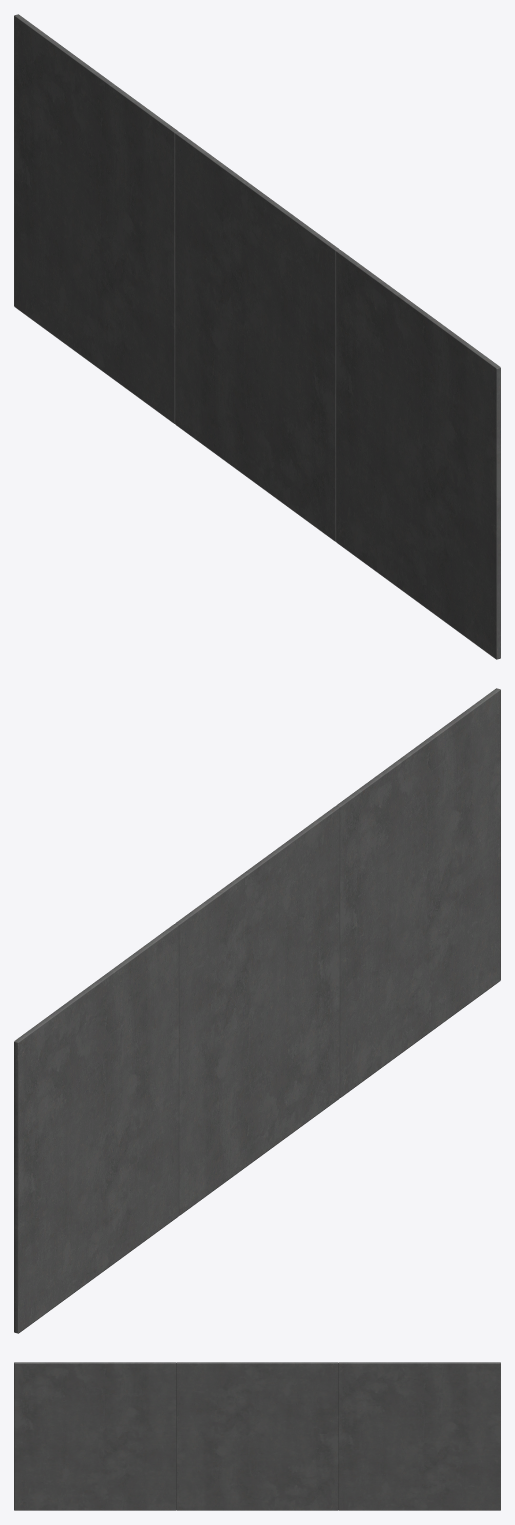
File: cP_Pathway03_Large_Comb02.dae
3 views of the same model, one above another, from view 1: azimuth 30°, elevation 25°; view 2: azimuth 150°, elevation 25°; view 3: azimuth 270°, elevation 25° (orthographic). The views are drawn at different scales.
Visible parts, largest first — view 1: cP_Pathway03_Large_Comb02.001; view 2: cP_Pathway03_Large_Comb02.001; view 3: cP_Pathway03_Large_Comb02.001.
Part boxes in pixels (x1,y1,x2,y2): cP_Pathway03_Large_Comb02.001: [14, 14, 500, 659]; cP_Pathway03_Large_Comb02.001: [14, 688, 500, 1333]; cP_Pathway03_Large_Comb02.001: [14, 1362, 500, 1510].
Bounding box in the file's own units: 0.0653 × 12 × 4.
